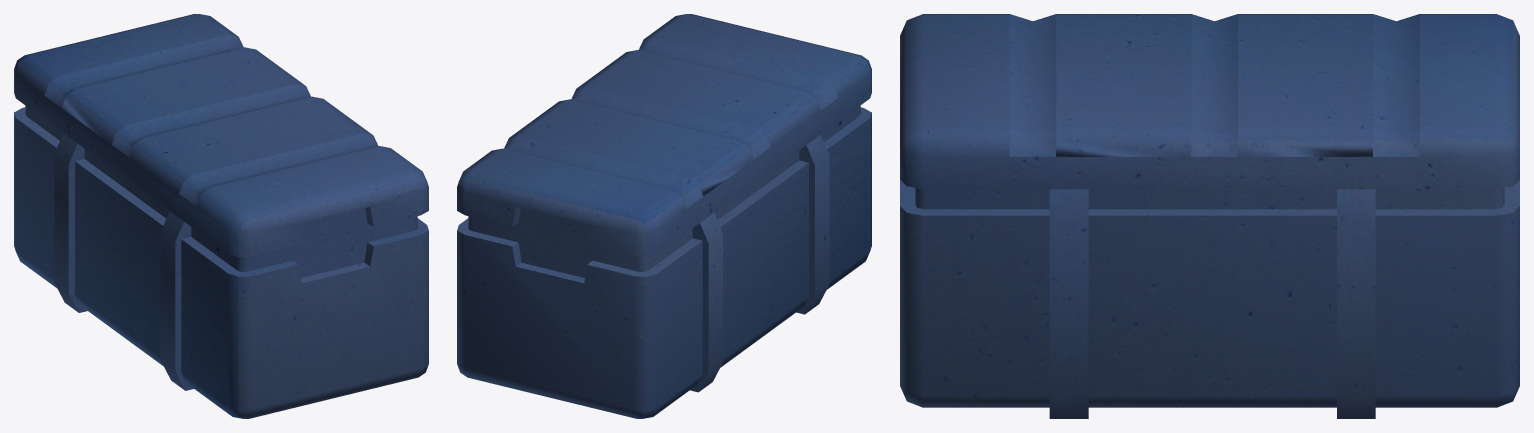
Rendered from Crate_z.glb.
The picture shows the model from 3 angles, left to right: view 1: azimuth 30°, elevation 25°; view 2: azimuth 150°, elevation 25°; view 3: azimuth 270°, elevation 25°; orthographic projection. The views are drawn at different scales.
Visible parts, largest first — view 1: Crate_z; view 2: Crate_z; view 3: Crate_z.
Part boxes in pixels (box(x1,y1,x2,y2)): Crate_z: box(14, 14, 428, 418); Crate_z: box(457, 14, 871, 418); Crate_z: box(900, 14, 1519, 418).
Bounding box in the file's own units: 1.3 × 1.24 × 2.44.
1 material, 1 textured.
